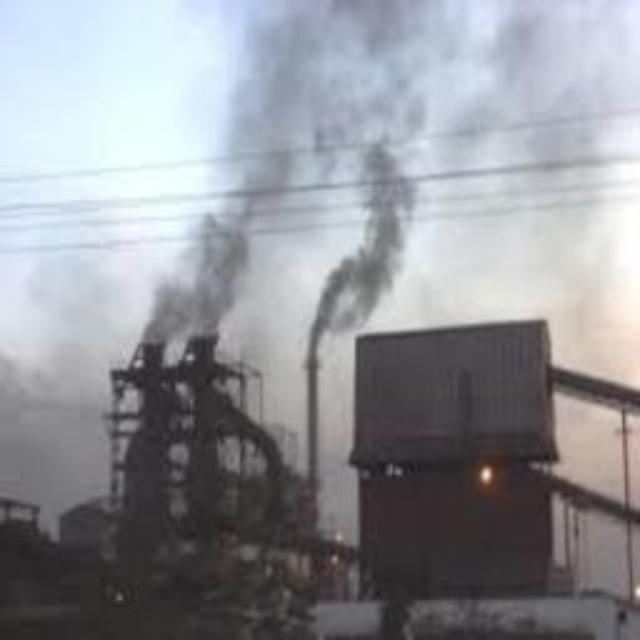smoke: (140, 2, 612, 342)
